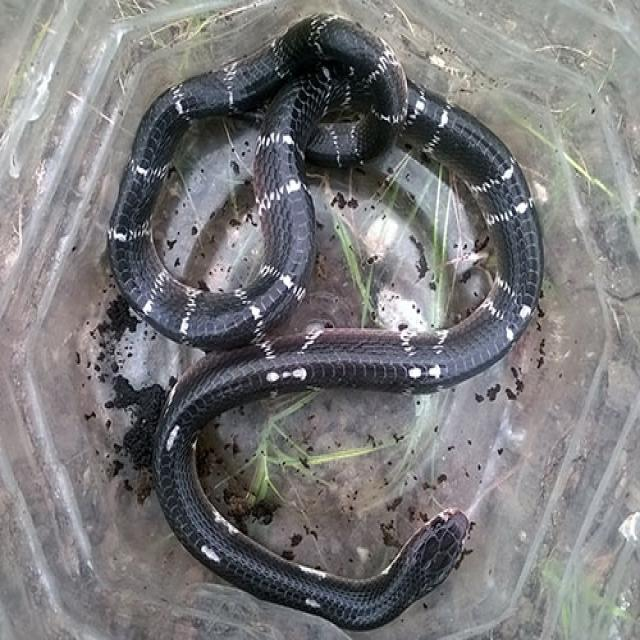Snake: (105, 9, 544, 630)
